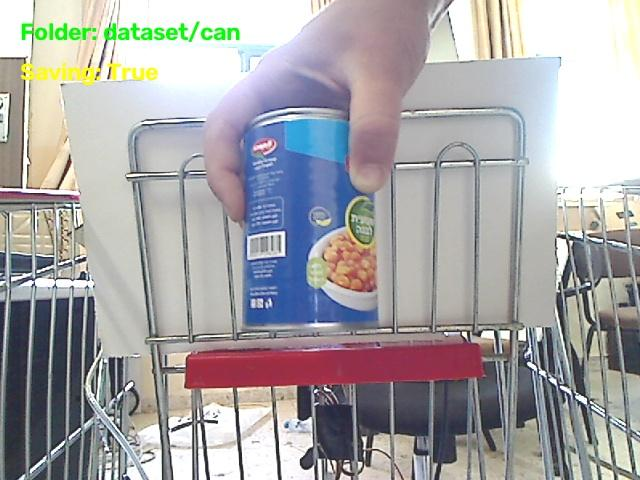can: (243, 108, 377, 330)
